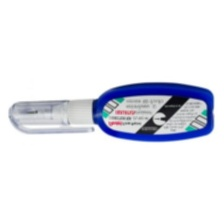correction_fluid: (5, 78, 215, 146)
